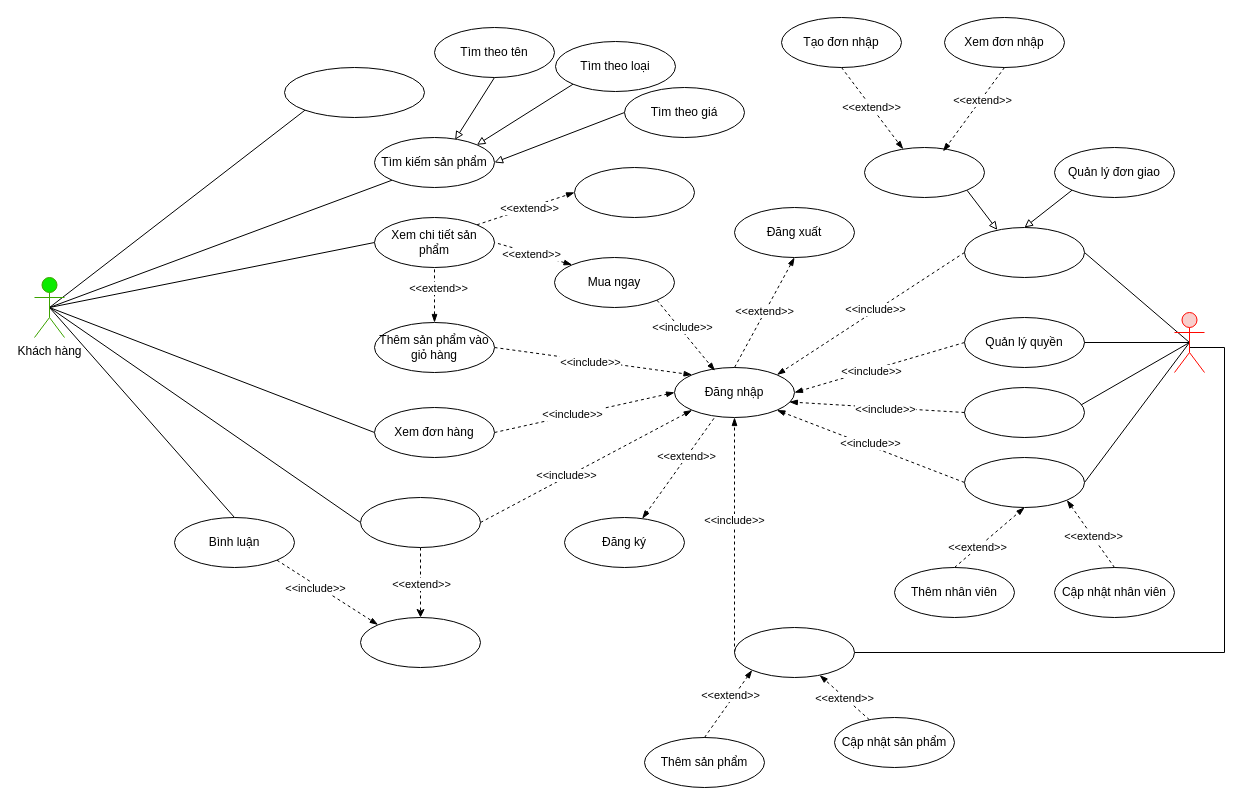
Image size: 1243x805. Some labels were removed from this diagram. The shapes that lost their labels are listed below. From the top down, each one's box as (x1, y1, x2, y2) in pixels, then its label:
(284, 66, 424, 118): Xem danh sách sản phẩm
(574, 166, 694, 218): Xem bình luận
(864, 146, 984, 198): Quản lý đơn nhập
(964, 226, 1084, 278): Quản lý đơn hàng
(1174, 312, 1204, 372): Quản lý
(964, 386, 1084, 438): Thống kê, báo cáo
(964, 456, 1084, 508): Quản lý nhân viên
(360, 496, 480, 548): Quản lý giỏ hàng
(360, 616, 480, 668): Mua hàng
(734, 626, 854, 678): quản lý sản phẩm
